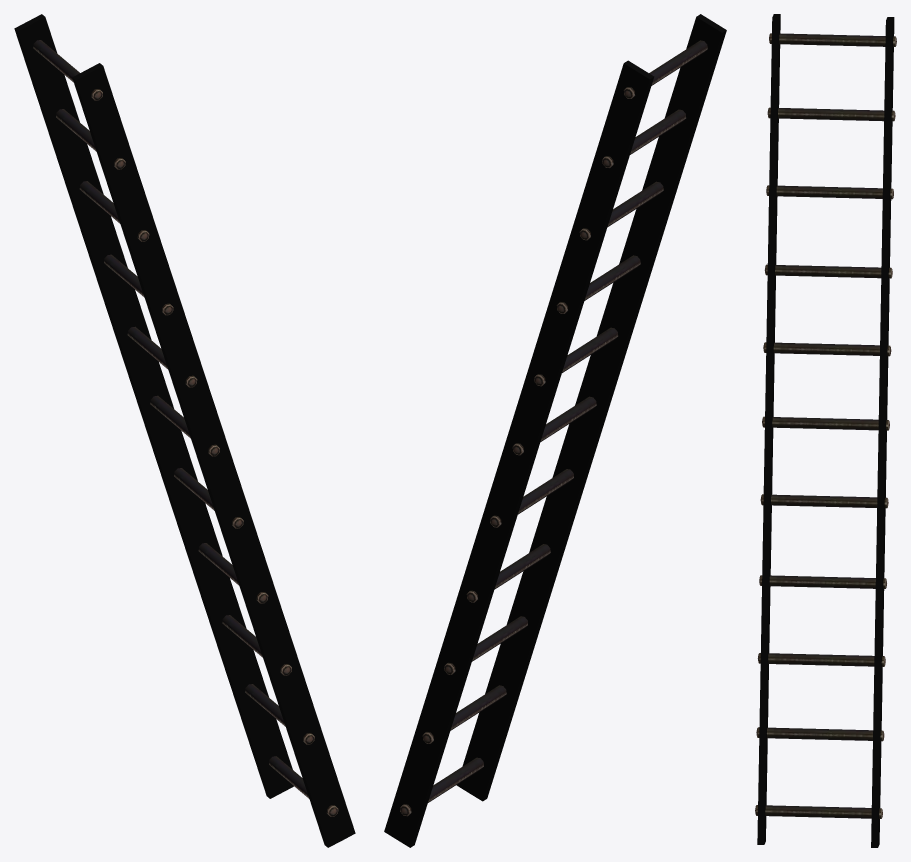
File: o_mdl_env_propLadderA_2-transformed.glb
3 views of the same model, side by side, from view 1: azimuth 30°, elevation 25°; view 2: azimuth 150°, elevation 25°; view 3: azimuth 270°, elevation 25° (orthographic). The views are drawn at different scales.
Parts seen in each view (by area): view 1: default; view 2: default; view 3: default.
Part boxes in pixels (x1,y1,x2,y2): default: [14, 14, 355, 847]; default: [384, 14, 726, 847]; default: [755, 14, 896, 847].
Size of the model in its own units: 1.66 by 4.74 by 0.8348.
1 material, 1 textured.
